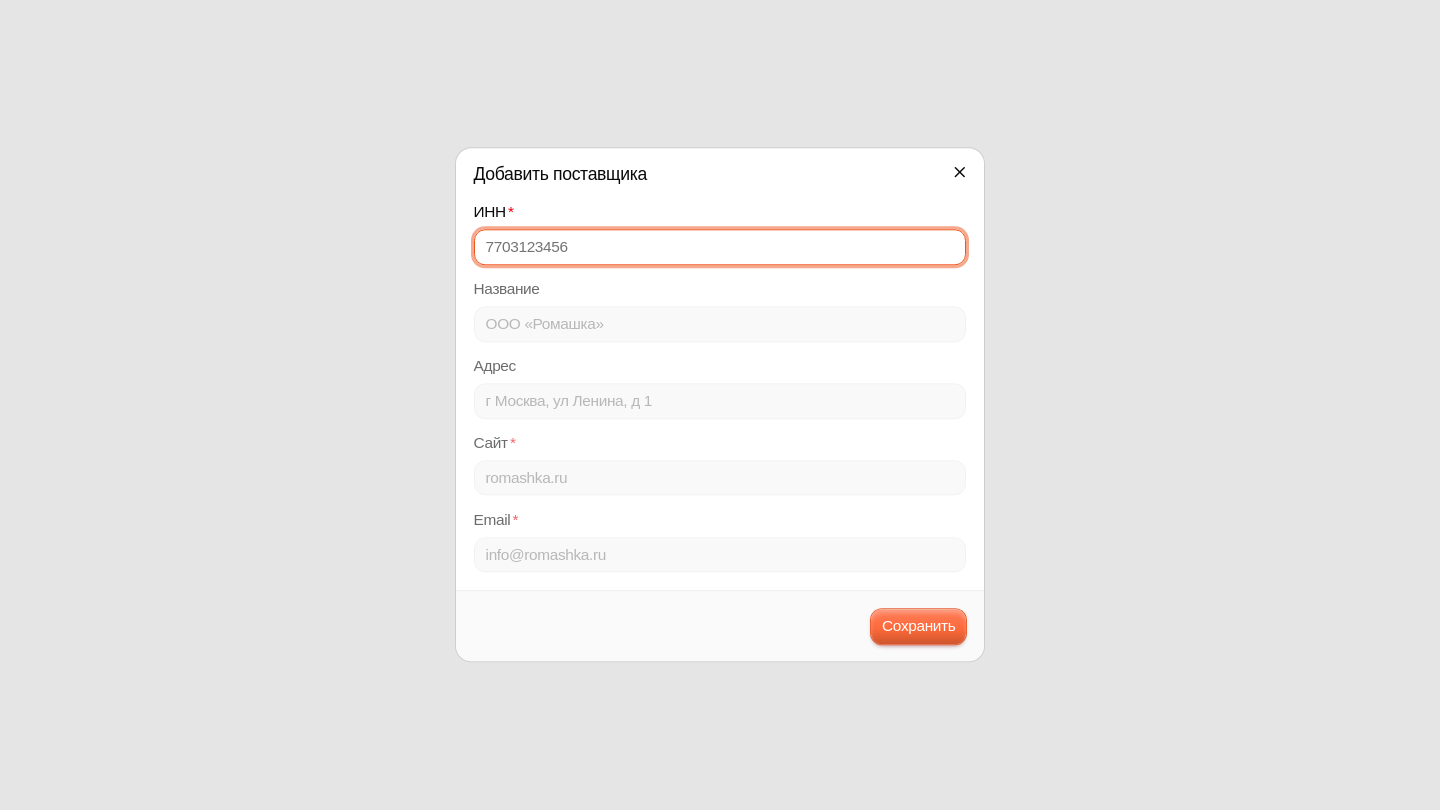
Test: AddSupplierDialog › shows miss hint when lookup returns no match
Type "0000000000" into the field labelled "ИНН" at (720,247), box [474,230,966,265]
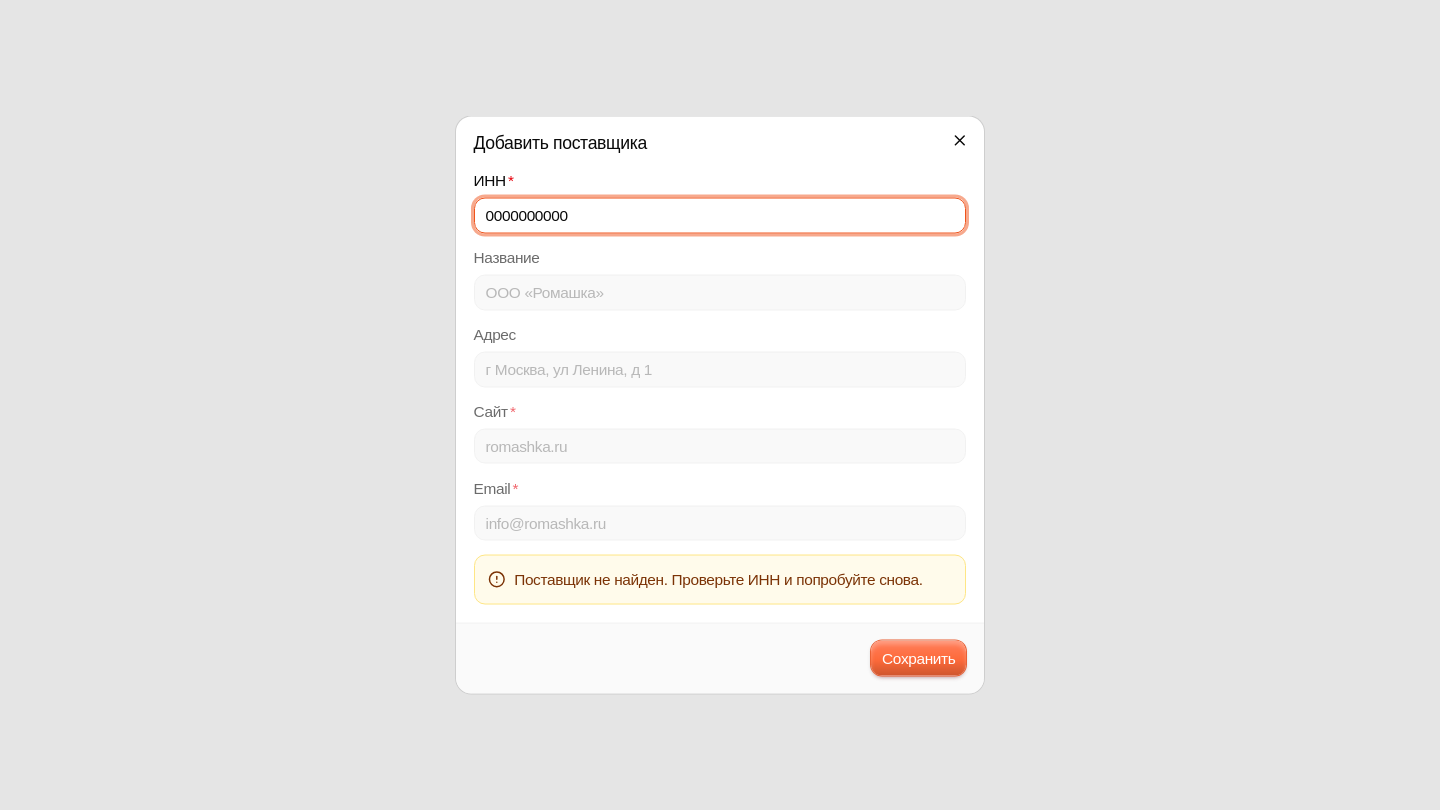
Check: the text "Поставщик не найден. Проверьте ИНН и попробуйте снова." is shown, box [514,568,923,590]
